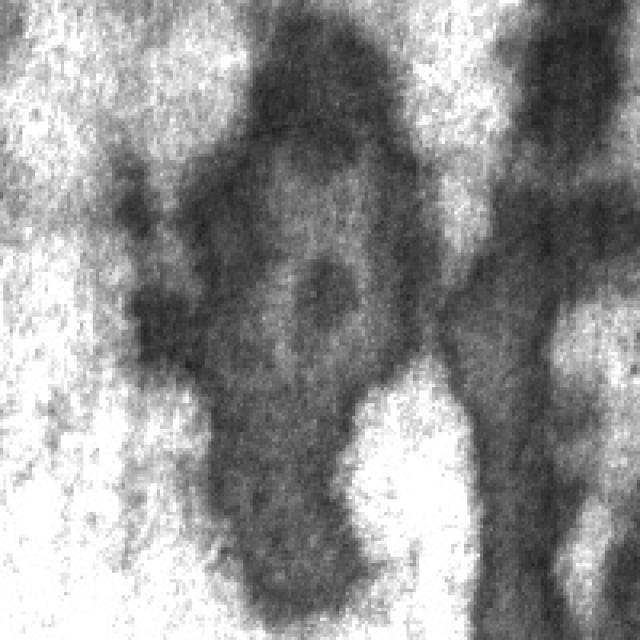patches: (118, 6, 432, 618), (435, 147, 634, 634), (493, 0, 630, 176)
